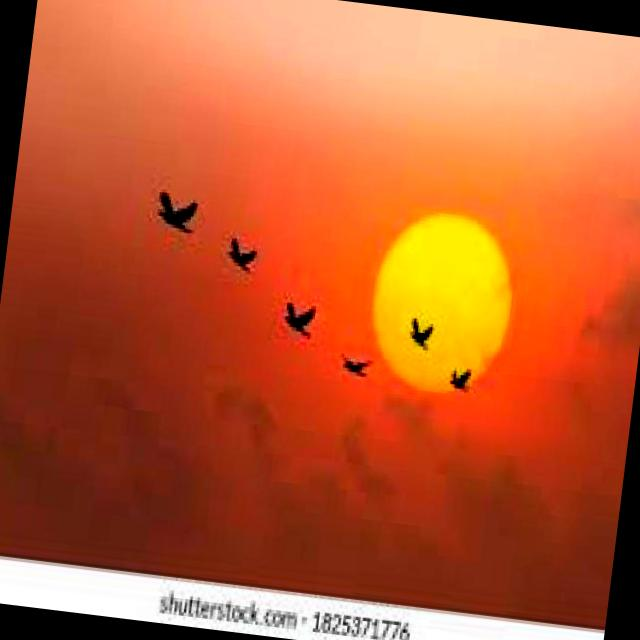bird: (145, 172, 209, 246), (330, 337, 380, 406), (218, 220, 268, 278), (438, 349, 487, 408), (401, 303, 452, 354), (279, 294, 322, 350)
